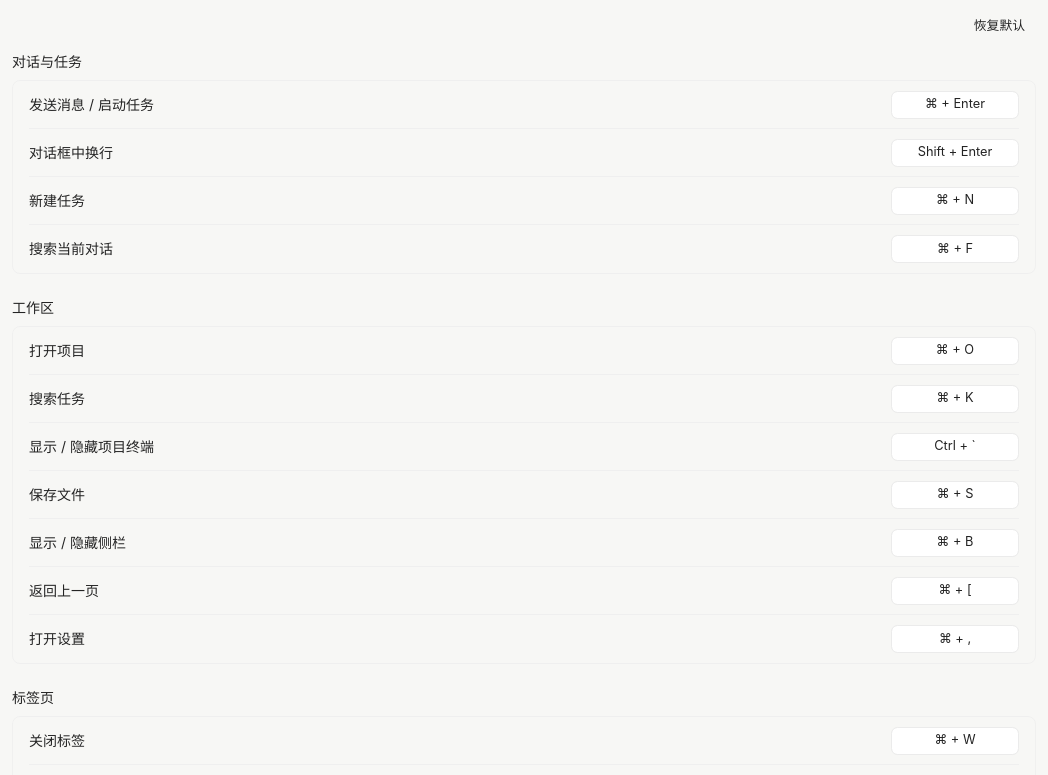
it: edits only the current system (MacIntel)
This screenshot has width=1048, height=775.
Click the button named "搜索当前对话快捷键" at (955, 249), box [891,235,1019,263]
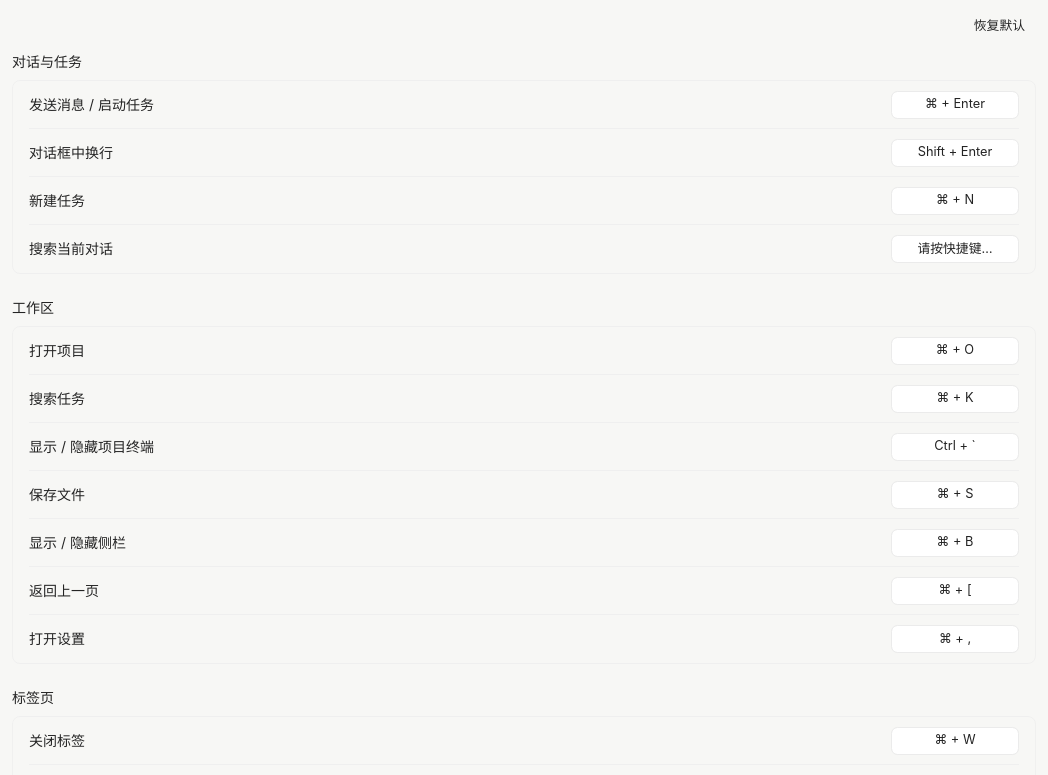
Press k in the button with aria-label "搜索当前对话快捷键", box [891,235,1019,263]
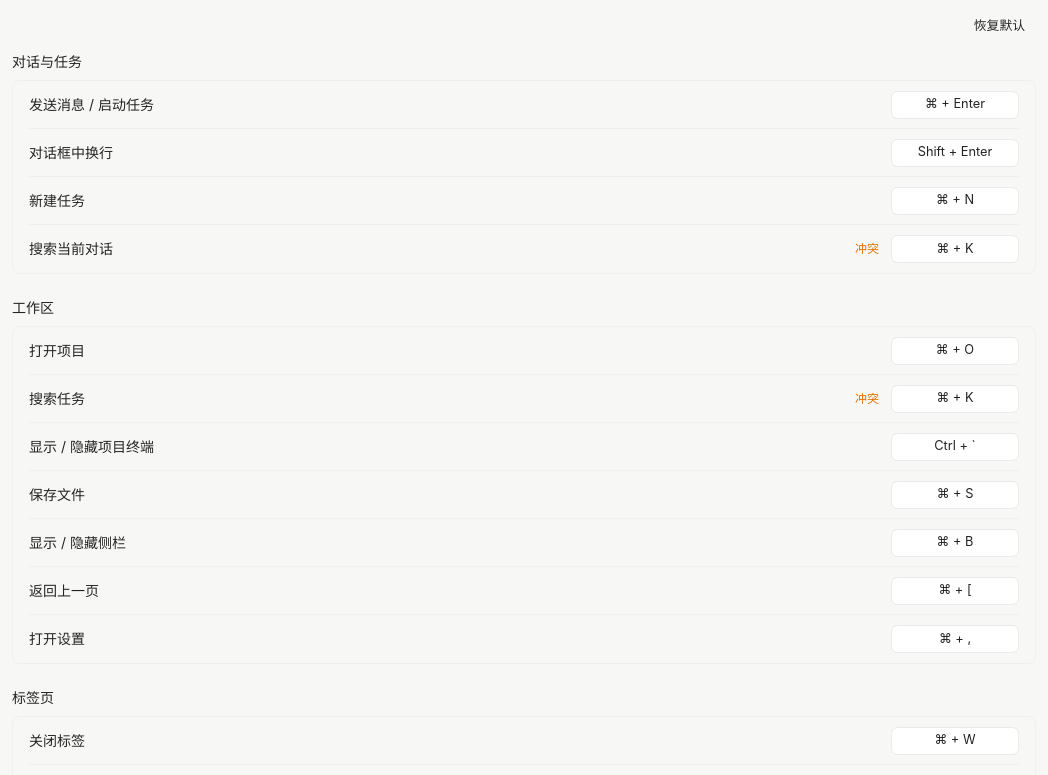
Now the text "冲突" is shown 2 times, box [855,241,879,257]; [855,390,879,406]
